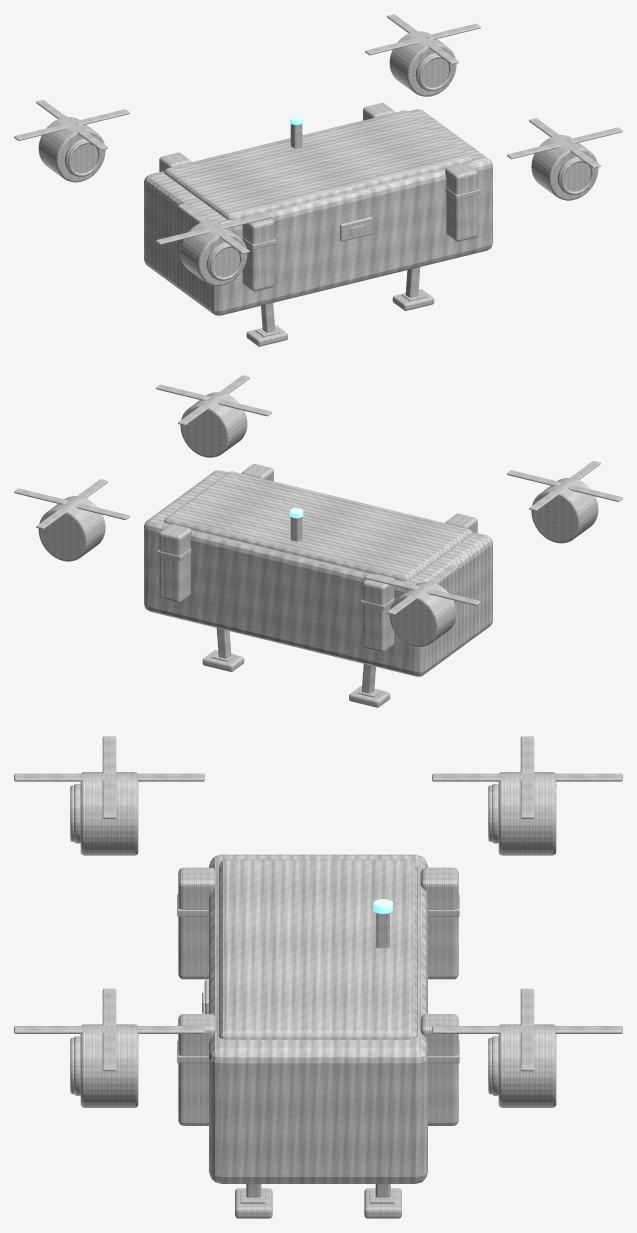
File: drone_variant_b.glb
3 renders of one model, top to bottom at view 1: azimuth 30°, elevation 25°; view 2: azimuth 150°, elevation 25°; view 3: azimuth 270°, elevation 25°, orthographic. The views are drawn at different scales.
Parts seen in each view (by area): view 1: Central fuselage.002, Upper armor shell, Rotor arm.005, Rotor arm.004, Rotor motor pod.005, Rotor motor pod.007, Rotor motor pod.004, Rotor motor pod.006, Motor cap.005, Motor cap.004, Motor cap.007, Motor cap.006 (+3 smaller); view 2: Central fuselage.002, Upper armor shell, Rotor motor pod.005, Rotor motor pod.007, Rotor motor pod.006, Rotor motor pod.004, Rotor arm.007, Rotor arm.006, Landing foot.007, Landing foot.005; view 3: Central fuselage.002, Upper armor shell, Rotor motor pod.004, Rotor motor pod.006, Rotor motor pod.005, Rotor motor pod.007, Rotor arm.004, Rotor arm.006, Rotor arm.005, Rotor arm.007, Landing foot.006, Landing foot.007 (+4 smaller).
Boxes of the visible parts, x1,y1,x2,y2 form: Central fuselage.002: [144, 109, 492, 315]; Upper armor shell: [164, 110, 472, 220]; Rotor arm.005: [445, 163, 477, 241]; Rotor arm.004: [242, 213, 273, 291]; Rotor motor pod.005: [531, 135, 598, 200]; Rotor motor pod.007: [389, 31, 456, 96]; Rotor motor pod.004: [180, 220, 247, 286]; Rotor motor pod.006: [38, 116, 105, 182]; Motor cap.005: [557, 156, 590, 194]; Motor cap.004: [206, 242, 239, 280]; Motor cap.007: [415, 53, 448, 90]; Motor cap.006: [64, 138, 97, 176]; Central fuselage.002: [144, 470, 492, 676]; Upper armor shell: [164, 471, 472, 581]; Rotor motor pod.005: [180, 392, 247, 457]; Rotor motor pod.007: [38, 496, 105, 561]; Rotor motor pod.006: [389, 581, 456, 647]; Rotor motor pod.004: [531, 477, 598, 543]; Rotor arm.007: [159, 524, 191, 602]; Rotor arm.006: [363, 574, 394, 652]; Landing foot.007: [202, 650, 244, 671]; Landing foot.005: [349, 686, 390, 707]; Central fuselage.002: [209, 854, 427, 1183]; Upper armor shell: [219, 859, 417, 1039]; Rotor motor pod.004: [80, 772, 138, 855]; Rotor motor pod.006: [498, 772, 556, 855]; Rotor motor pod.005: [80, 1024, 138, 1107]; Rotor motor pod.007: [498, 1024, 556, 1107]; Rotor arm.004: [178, 867, 216, 979]; Rotor arm.006: [420, 867, 458, 979]; Rotor arm.005: [178, 1014, 216, 1125]; Rotor arm.007: [420, 1014, 458, 1125]; Landing foot.006: [235, 1188, 272, 1218]; Landing foot.007: [364, 1188, 401, 1218].
Size of what is drawn, in the model's own units: 7.92 by 2.82 by 6.12.
8 materials, 8 textured.
